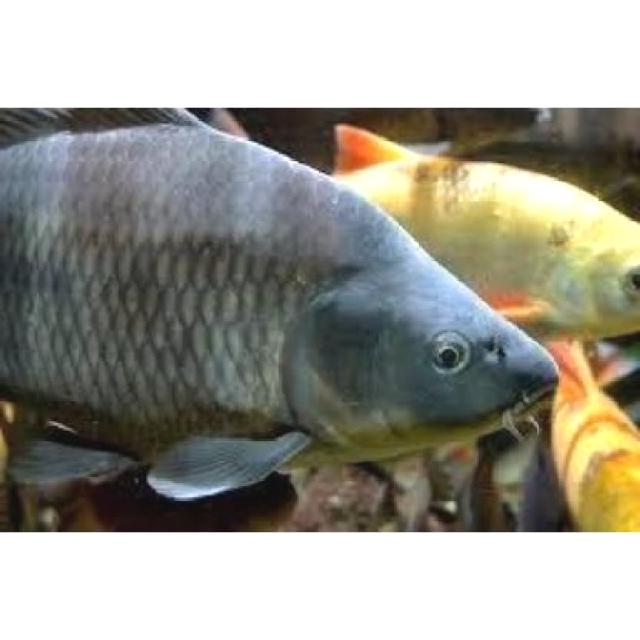ikan-mas: (2, 106, 564, 497)
